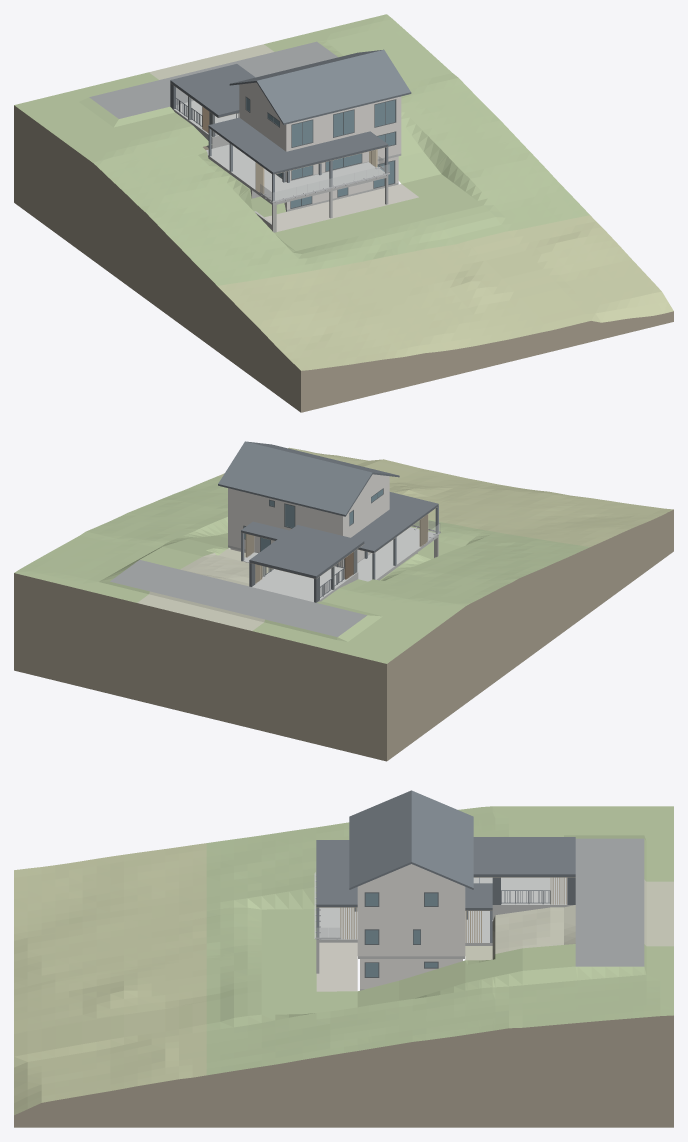
The model's file is Schaffernak_Haus_C.glb.
The picture shows the model from 3 angles, top to bottom: view 1: azimuth 30°, elevation 25°; view 2: azimuth 150°, elevation 25°; view 3: azimuth 270°, elevation 25°; orthographic projection. The views are drawn at different scales.
Parts seen in each view (by area): view 1: Foto_Gelaende_Rasen_Boeschung, Foto_Gelaende_Hang_unten, Foto_Gelaende_Modellrand, Satteldach_0, Strasse_parallel_zum_Haus_schematisch, Foto_Gelaende_Kies_Kellerbereich, Entwurf_Dach_vorne, Carport_Dach, Balkon_vorne, Foto_Gelaende_Seitliche_Gruenflaeche, Entwurf_Dach_links, Foto_Gelaende_Rueckseite (+3 smaller); view 2: Foto_Gelaende_Modellrand, Foto_Gelaende_Rasen_Boeschung, Foto_Gelaende_Hang_unten, Strasse_parallel_zum_Haus_schematisch, Satteldach_1, Foto_Gelaende_Rueckseite, Carport_Dach, Foto_Gelaende_Seitliche_Gruenflaeche, Carport_Boden, Entwurf_Dach_links, Balkon_links, OG_back_Wand4 (+5 smaller); view 3: Foto_Gelaende_Rasen_Boeschung, Foto_Gelaende_Modellrand, Foto_Gelaende_Hang_unten, Strasse_parallel_zum_Haus_schematisch, Foto_Gelaende_Rueckseite, Foto_Gelaende_Seitliche_Gruenflaeche, Satteldach_0, Satteldach_1, Carport_Dach, Entwurf_Dach_vorne, Carport_Boden, Foto_Gelaende_Kies_Kellerbereich (+9 smaller).
Boxes of the visible parts, bbox=[...] form: Foto_Gelaende_Rasen_Boeschung: bbox=[14, 14, 589, 285]; Foto_Gelaende_Hang_unten: bbox=[217, 215, 673, 370]; Foto_Gelaende_Modellrand: bbox=[14, 105, 673, 412]; Satteldach_0: bbox=[256, 50, 411, 124]; Strasse_parallel_zum_Haus_schematisch: bbox=[89, 41, 337, 118]; Foto_Gelaende_Kies_Kellerbereich: bbox=[265, 184, 418, 231]; Entwurf_Dach_vorne: bbox=[255, 131, 388, 174]; Carport_Dach: bbox=[171, 64, 254, 114]; Balkon_vorne: bbox=[255, 162, 388, 205]; Foto_Gelaende_Seitliche_Gruenflaeche: bbox=[264, 34, 440, 183]; Entwurf_Dach_links: bbox=[208, 117, 285, 160]; Foto_Gelaende_Rueckseite: bbox=[149, 44, 273, 79]; Foto_Gelaende_Modellrand: bbox=[14, 509, 673, 761]; Foto_Gelaende_Rasen_Boeschung: bbox=[14, 476, 589, 663]; Foto_Gelaende_Hang_unten: bbox=[218, 447, 673, 546]; Strasse_parallel_zum_Haus_schematisch: bbox=[110, 560, 366, 636]; Satteldach_1: bbox=[218, 441, 372, 516]; Foto_Gelaende_Rueckseite: bbox=[137, 549, 272, 630]; Carport_Dach: bbox=[250, 525, 363, 575]; Foto_Gelaende_Seitliche_Gruenflaeche: bbox=[97, 533, 229, 602]; Carport_Boden: bbox=[252, 569, 352, 602]; Entwurf_Dach_links: bbox=[351, 509, 420, 552]; Balkon_links: bbox=[357, 540, 420, 580]; OG_back_Wand4: bbox=[228, 488, 268, 522]; Foto_Gelaende_Rasen_Boeschung: bbox=[206, 806, 673, 1075]; Foto_Gelaende_Modellrand: bbox=[14, 1015, 673, 1127]; Foto_Gelaende_Hang_unten: bbox=[14, 843, 206, 1115]; Strasse_parallel_zum_Haus_schematisch: bbox=[575, 838, 644, 966]; Foto_Gelaende_Rueckseite: bbox=[465, 879, 673, 960]; Foto_Gelaende_Seitliche_Gruenflaeche: bbox=[357, 944, 673, 1007]; Satteldach_0: bbox=[349, 790, 411, 889]; Satteldach_1: bbox=[411, 790, 473, 889]; Carport_Dach: bbox=[473, 837, 575, 874]; Entwurf_Dach_vorne: bbox=[316, 840, 357, 907]; Carport_Boden: bbox=[492, 877, 573, 906]; Foto_Gelaende_Kies_Kellerbereich: bbox=[316, 942, 357, 991].
Bounding box in the file's own units: 36 × 16.06 × 48.
